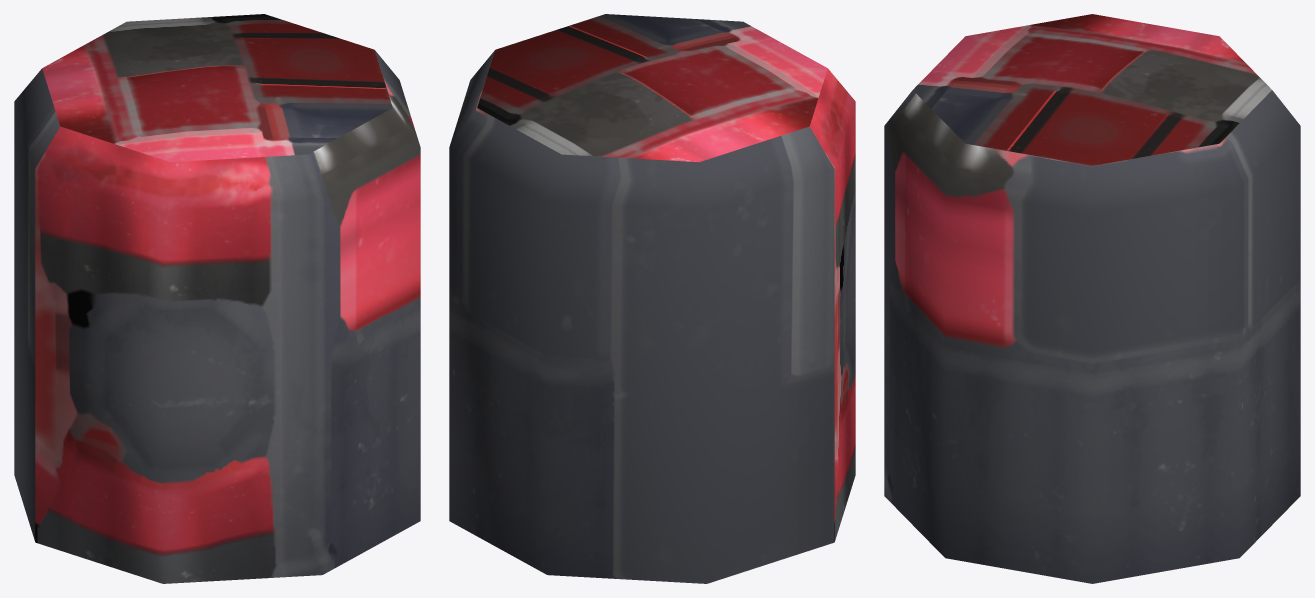
File: grinder_trap_pole.fbx
The picture shows the model from 3 angles, left to right: view 1: azimuth 30°, elevation 25°; view 2: azimuth 150°, elevation 25°; view 3: azimuth 270°, elevation 25°; orthographic projection.
Parts seen in each view (by area): view 1: Long Crusher.003; view 2: Long Crusher.003; view 3: Long Crusher.003.
Part boxes in pixels (left/top/right/bottom): Long Crusher.003: left=14, top=14, right=420, bottom=583; Long Crusher.003: left=449, top=14, right=855, bottom=583; Long Crusher.003: left=884, top=14, right=1300, bottom=583.
Size of the model in its own units: 100 by 112 by 100.
